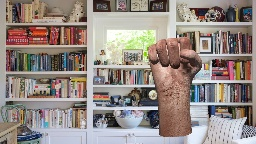Pugno: (144, 36, 204, 92)
